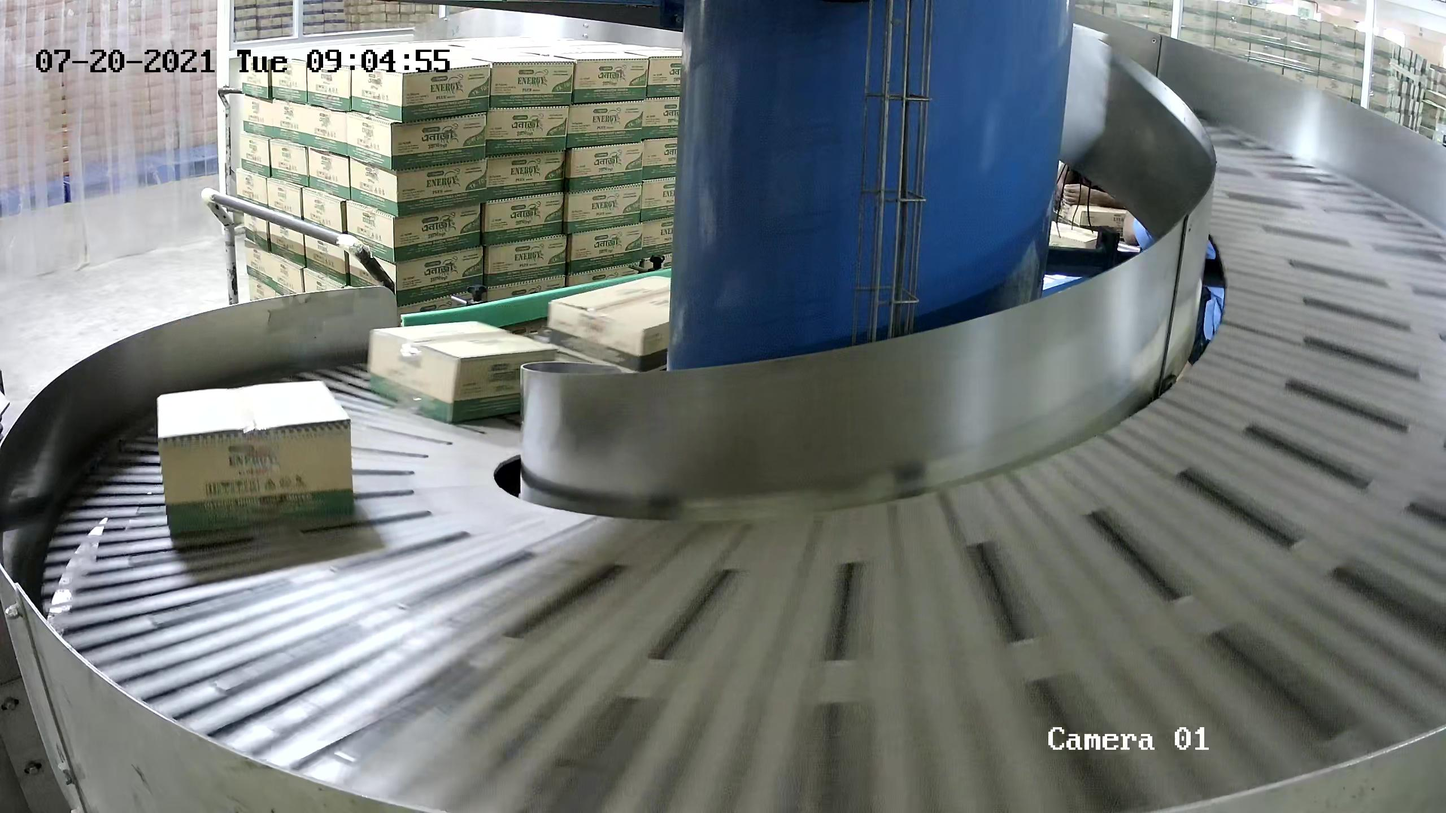Box: (157, 380, 358, 543), (368, 320, 557, 426), (546, 274, 721, 377)
